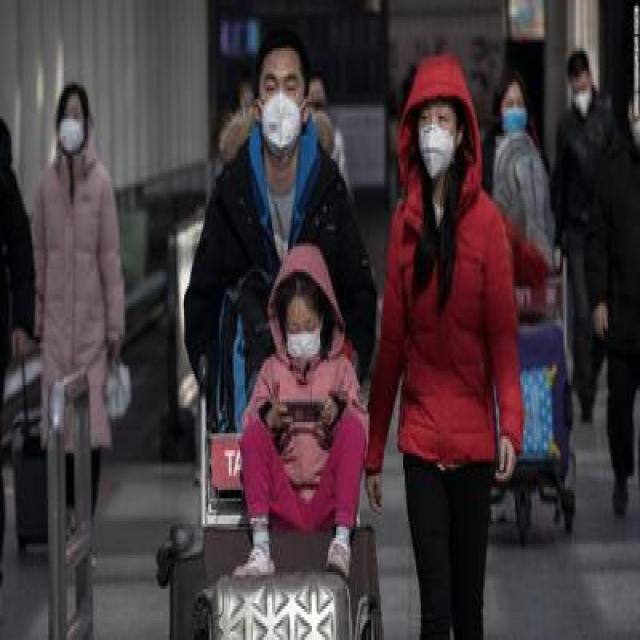with_mask: (259, 66, 307, 151), (417, 100, 459, 177), (281, 307, 323, 358), (59, 100, 88, 151), (571, 75, 593, 117), (499, 92, 526, 126)
